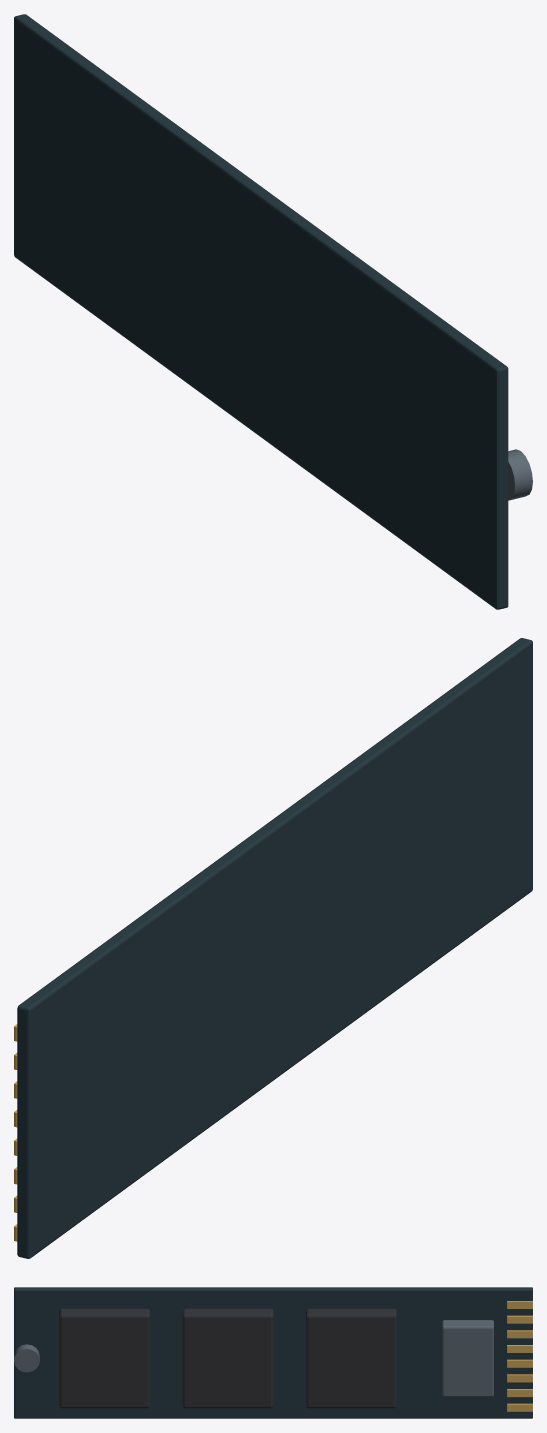
Rendered from ssd.glb.
3 views of the same model, one above another, from view 1: azimuth 30°, elevation 25°; view 2: azimuth 150°, elevation 25°; view 3: azimuth 270°, elevation 25° (orthographic). The views are drawn at different scales.
Visible parts, largest first — view 1: SSD_PCB_SSD, SSD_Metal_Dark_Steel; view 2: SSD_PCB_SSD; view 3: SSD_PCB_SSD, SSD_Chip_Ceramic, SSD_Metal_Dark_Steel, SSD_Contact_Gold.
Part boxes in pixels (x1=…): SSD_PCB_SSD: x1=14, y1=14, x2=508, y2=609; SSD_Metal_Dark_Steel: x1=508, y1=449, x2=532, y2=500; SSD_PCB_SSD: x1=17, y1=638, x2=532, y2=1258; SSD_PCB_SSD: x1=14, y1=1287, x2=532, y2=1418; SSD_Chip_Ceramic: x1=59, y1=1308, x2=396, y2=1408; SSD_Metal_Dark_Steel: x1=14, y1=1320, x2=493, y2=1396; SSD_Contact_Gold: x1=507, y1=1301, x2=532, y2=1411.
Size of the model in its own units: 0.004 by 0.022 by 0.08.
